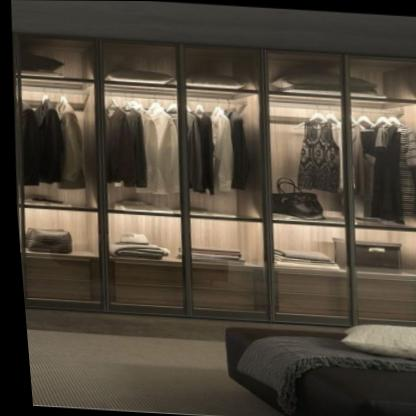Transparent Closet: (18, 36, 416, 327)
